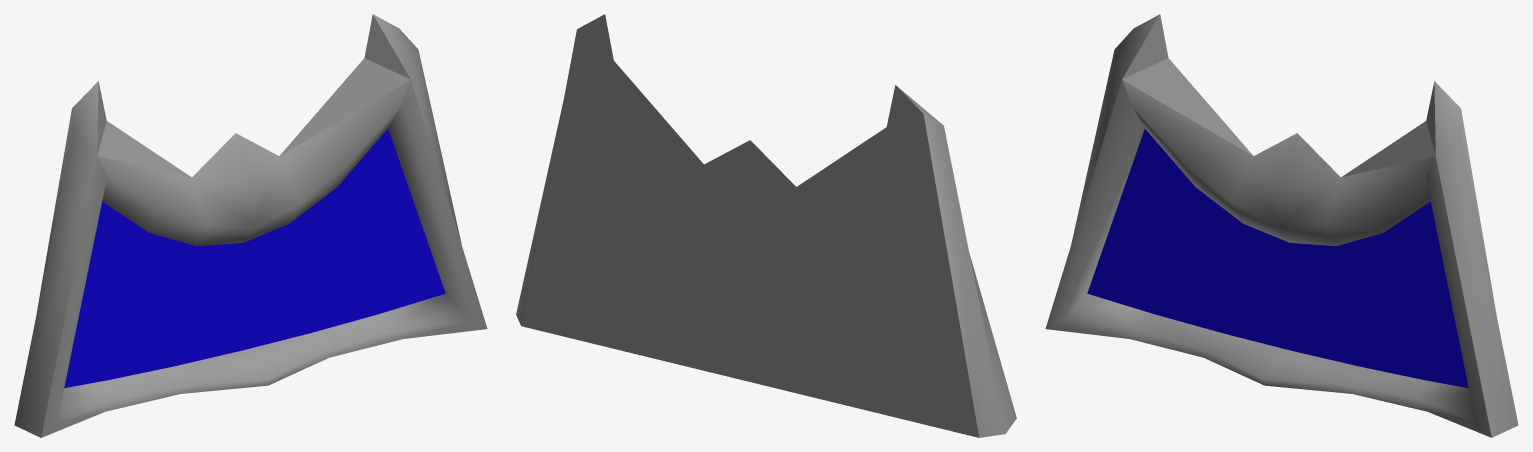
The model's file is MOD_MirrorBig.FBX.
3 renders of one model, left to right at view 1: azimuth 30°, elevation 25°; view 2: azimuth 150°, elevation 25°; view 3: azimuth 330°, elevation 25°, orthographic. The views are drawn at different scales.
Visible parts, largest first — view 1: MOD_MirrorBig; view 2: MOD_MirrorBig; view 3: MOD_MirrorBig.
Boxes of the visible parts, left/top/right/bottom form: MOD_MirrorBig: left=14, top=14, right=487, bottom=437; MOD_MirrorBig: left=516, top=14, right=1016, bottom=437; MOD_MirrorBig: left=1045, top=14, right=1518, bottom=437.
Bounding box in the file's own units: 7.98 × 5.19 × 1.
